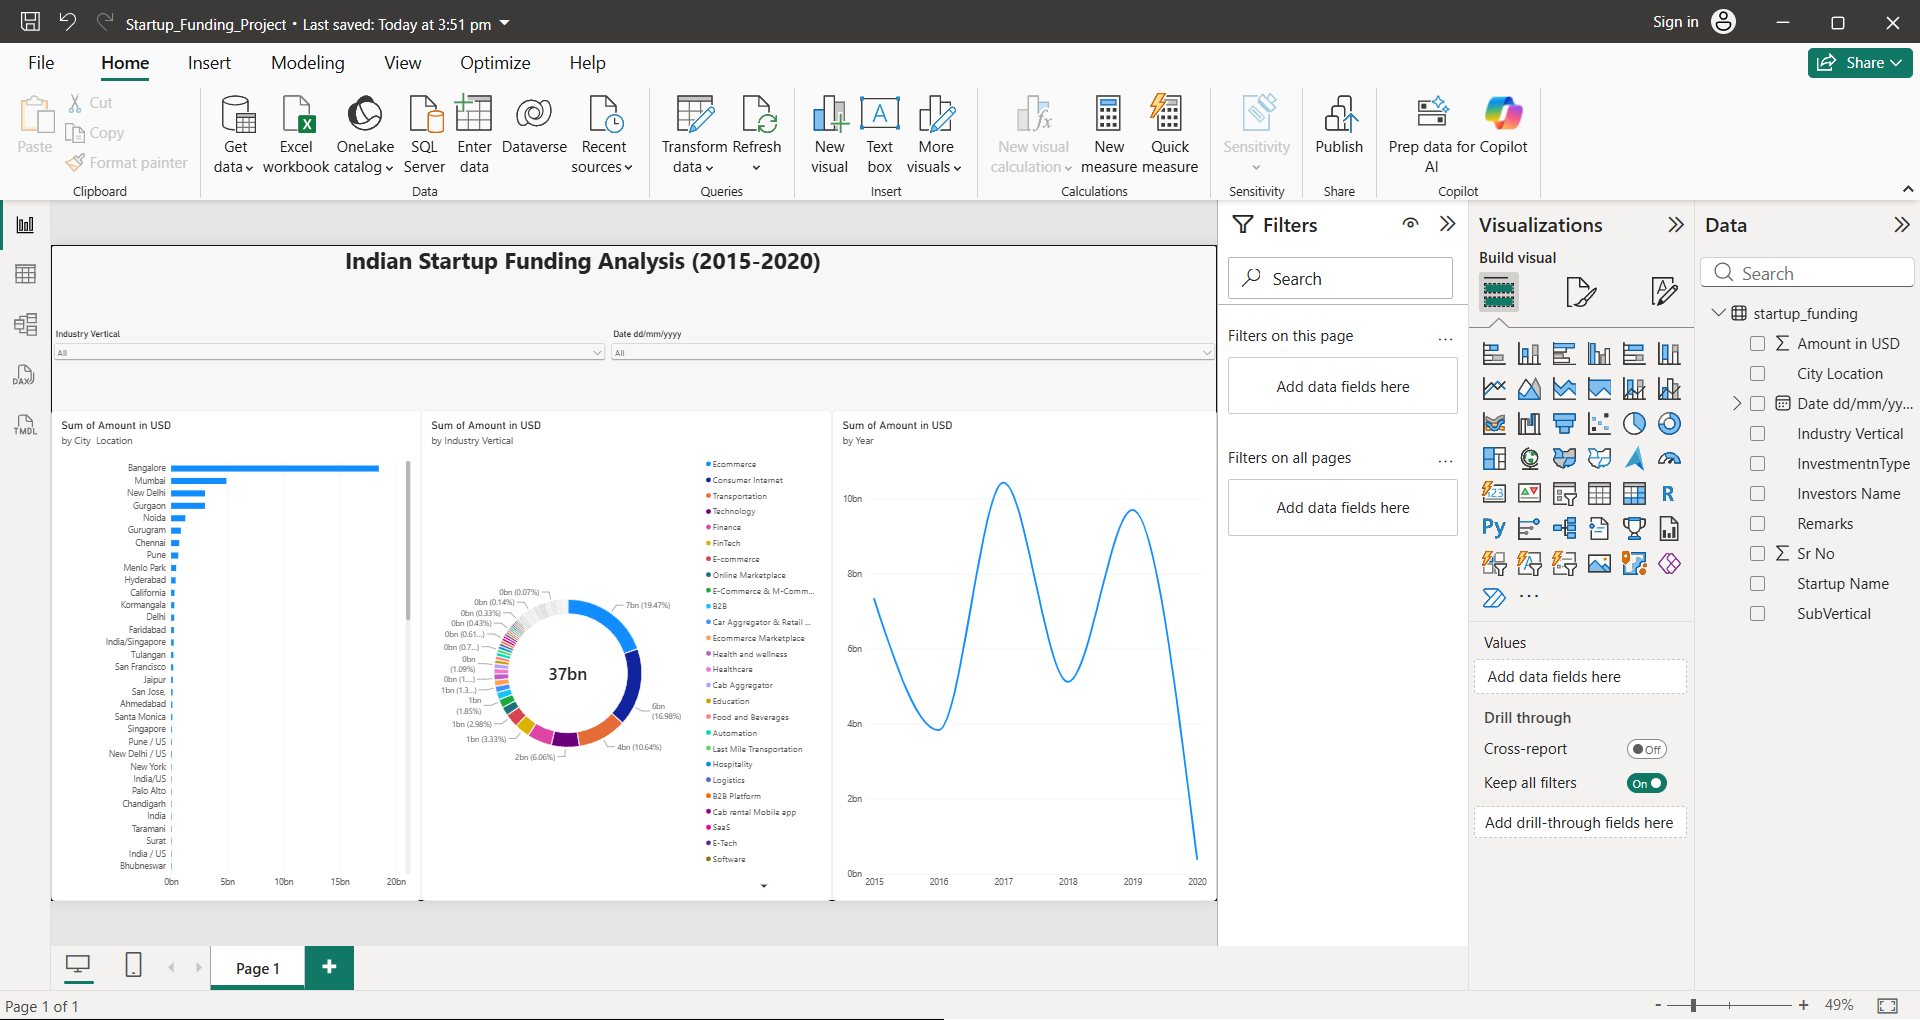

The page's visual inventory and layout, read from the dashboard file:
{"tool":"powerbi","page":{"name":"Page 1","canvas":[1920,1080],"ordinal":0},"visuals":[{"type":"barChart","fields":{"Category":["startup_funding.City  Location"],"Y":["Sum(startup_funding.Amount in USD)"]},"box":[0,271.7,609.3,808.9],"z":0},{"type":"donutChart","fields":{"Category":["startup_funding.Industry Vertical"],"Y":["Sum(startup_funding.Amount in USD)"]},"box":[609.3,271.7,677.2,808.9],"z":1},{"type":"lineChart","fields":{"Category":["startup_funding.Date dd/mm/yyyy.Variation.Date Hierarchy.Year","startup_funding.Date dd/mm/yyyy.Variation.Date Hierarchy.Quarter","startup_funding.Date dd/mm/yyyy.Variation.Date Hierarchy.Month","startup_funding.Date dd/mm/yyyy.Variation.Date Hierarchy.Day"],"Y":["Sum(startup_funding.Amount in USD)"]},"box":[1286.5,271.7,634,808.9],"z":2},{"type":"textbox","box":[400,100,170,231],"z":3},{"type":"textbox","box":[1195,0,615,482],"z":4},{"type":"textbox","box":[100,100,300,300],"z":6},{"type":"textbox","box":[100,100,300,300],"z":7},{"type":"textbox","box":[100,100,300,300],"z":8},{"type":"textbox","box":[100,100,300,300],"z":9},{"type":"textbox","box":[100,100,300,300],"z":10},{"type":"textbox","box":[100,100,300,300],"z":11},{"type":"textbox","box":[100,100,300,300],"z":12},{"type":"textbox","box":[0,0,1920.4,137.9],"z":13},{"type":"slicer","fields":{"Values":["startup_funding.Date dd/mm/yyyy"]},"box":[918,137.9,1004.5,102.9],"z":14},{"type":"slicer","fields":{"Values":["startup_funding.Industry Vertical"]},"box":[0,137.9,918,133.8],"z":15}]}

Visuals, with their boxes on the page's 1920x1080 design canvas (x1, y1, x2, y2). These are canvas units, not pixel positions in the 1920x1020 screenshot, which may show the page scaled, cropped or inside an application window:
barChart - startup_funding.City  Location x Sum(startup_funding.Amount in USD): [x1=0, y1=272, x2=609, y2=1081]
donutChart - startup_funding.Industry Vertical x Sum(startup_funding.Amount in USD): [x1=609, y1=272, x2=1286, y2=1081]
lineChart - startup_funding.Date dd/mm/yyyy.Variation.Date Hierarchy.Year x startup_funding.Date dd/mm/yyyy.Variation.Date Hierarchy.Quarter: [x1=1286, y1=272, x2=1920, y2=1081]
textbox: [x1=400, y1=100, x2=570, y2=331]
textbox: [x1=1195, y1=0, x2=1810, y2=482]
textbox: [x1=100, y1=100, x2=400, y2=400]
textbox: [x1=100, y1=100, x2=400, y2=400]
textbox: [x1=100, y1=100, x2=400, y2=400]
textbox: [x1=100, y1=100, x2=400, y2=400]
textbox: [x1=100, y1=100, x2=400, y2=400]
textbox: [x1=100, y1=100, x2=400, y2=400]
textbox: [x1=100, y1=100, x2=400, y2=400]
textbox: [x1=0, y1=0, x2=1920, y2=138]
slicer - startup_funding.Date dd/mm/yyyy: [x1=918, y1=138, x2=1922, y2=241]
slicer - startup_funding.Industry Vertical: [x1=0, y1=138, x2=918, y2=272]
